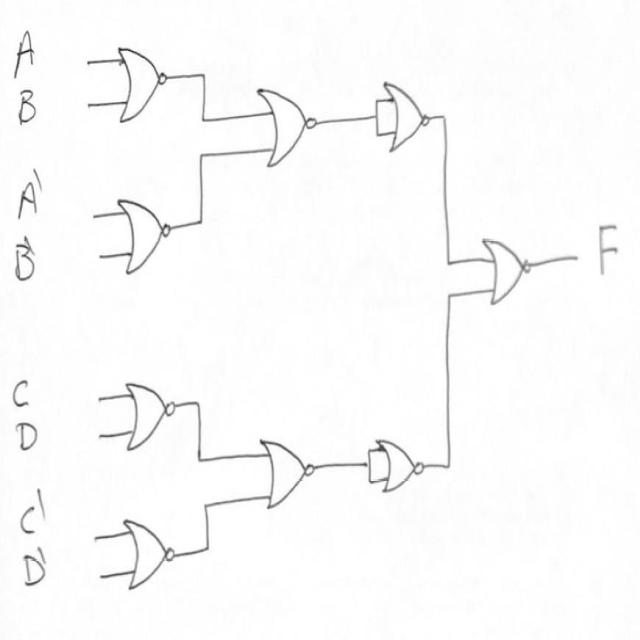NOR: (251, 76, 324, 185), (247, 424, 331, 513), (114, 499, 188, 595), (108, 189, 180, 286), (478, 219, 541, 327), (113, 28, 175, 136), (113, 369, 183, 462), (380, 65, 436, 172), (372, 424, 430, 509)
